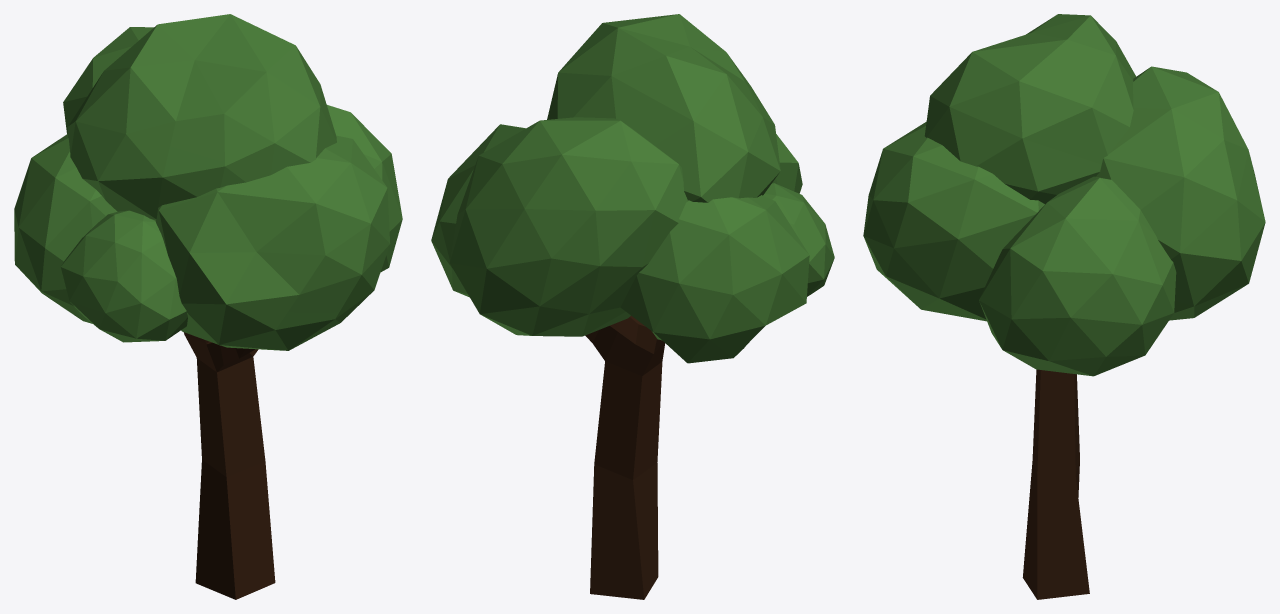
Rendered from Tree3.FBX.
The picture shows the model from 3 angles, left to right: view 1: azimuth 30°, elevation 25°; view 2: azimuth 150°, elevation 25°; view 3: azimuth 270°, elevation 25°; orthographic projection. The views are drawn at different scales.
Visible parts, largest first — view 1: OakTree3; view 2: OakTree3; view 3: OakTree3.
Boxes of the visible parts, box(x1,y1,x2,y2) form: OakTree3: box(14, 14, 402, 599); OakTree3: box(431, 14, 834, 599); OakTree3: box(863, 14, 1265, 599).
Bounding box in the file's own units: 1382 × 2132 × 1423.
